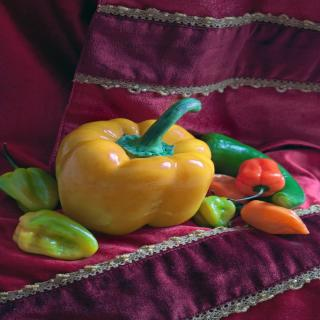Bell pepper: (0, 97, 286, 263)
